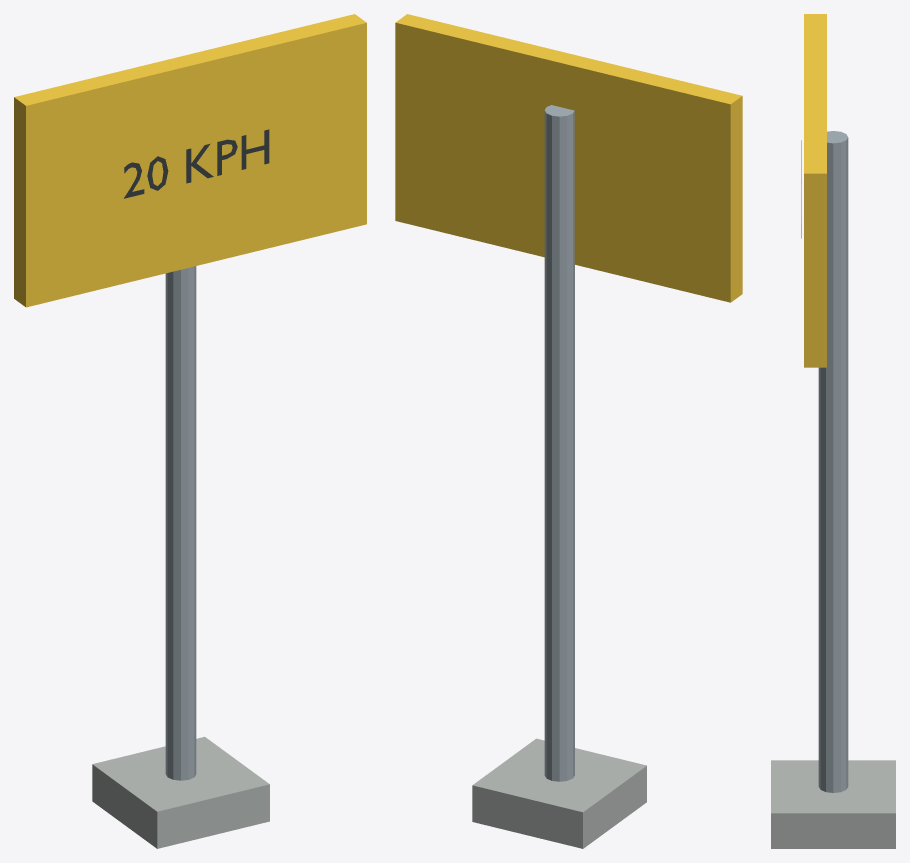
Rendered from TR_Sign_Speed20.glb.
3 renders of one model, left to right at view 1: azimuth 30°, elevation 25°; view 2: azimuth 150°, elevation 25°; view 3: azimuth 270°, elevation 25°, orthographic. The views are drawn at different scales.
Parts seen in each view (by area): view 1: TR_Sign_Speed20; view 2: TR_Sign_Speed20; view 3: TR_Sign_Speed20.
Boxes of the visible parts, left/top/right/bottom form: TR_Sign_Speed20: left=14, top=14, right=366, bottom=848; TR_Sign_Speed20: left=395, top=14, right=742, bottom=848; TR_Sign_Speed20: left=771, top=14, right=895, bottom=848.
Size of the model in its own units: 1.15 by 2.44 by 0.38.
